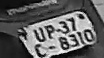0: (83, 28, 94, 42)
1: (76, 30, 85, 45)
3: (69, 33, 79, 47), (60, 21, 69, 36)
7: (67, 16, 77, 31)
8: (59, 35, 69, 51)
C: (33, 42, 47, 57)
P: (45, 22, 55, 42)
U: (35, 28, 45, 41)
